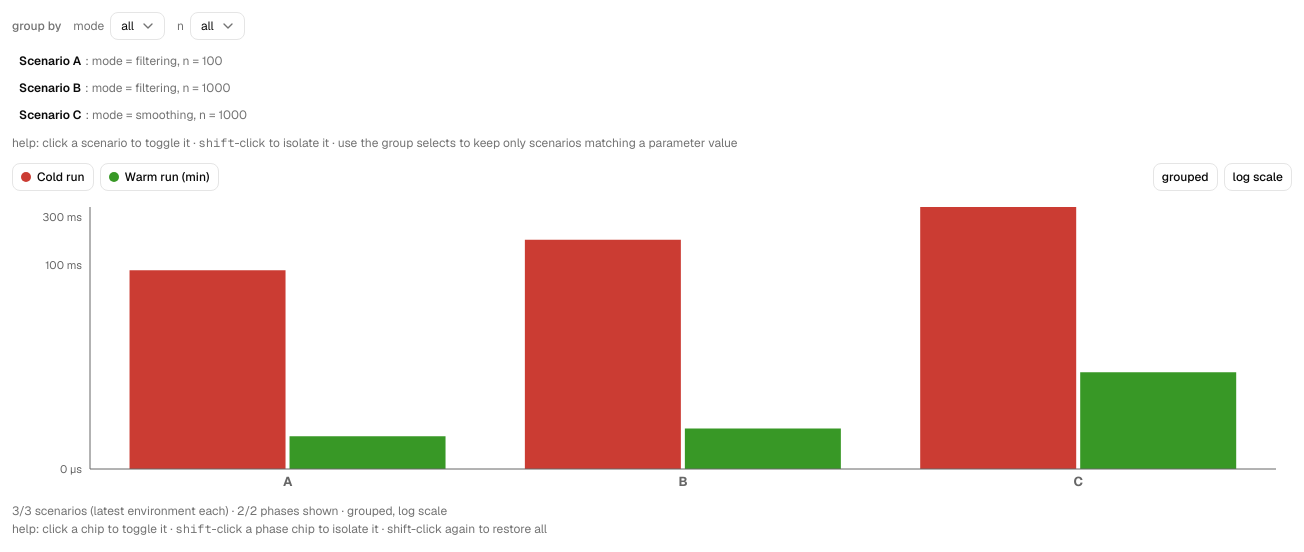
Test: ScenarioCompareChart › toggles individual scenarios from the legend
Click the button "Scenario A : mode = filtering, n = 100" at (121, 61), box [12, 49, 230, 73]
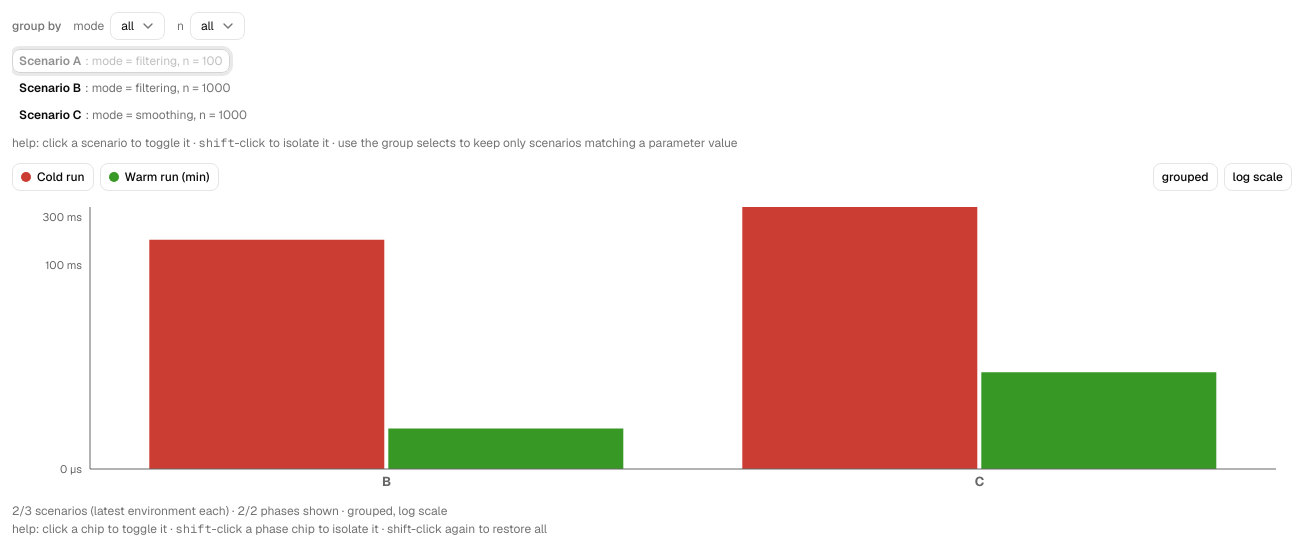
Now the text "2/3 scenarios" is shown, box [12, 503, 229, 519]
Click the button "Scenario A : mode = filtering, n = 100" at (121, 61), box [12, 49, 230, 73]
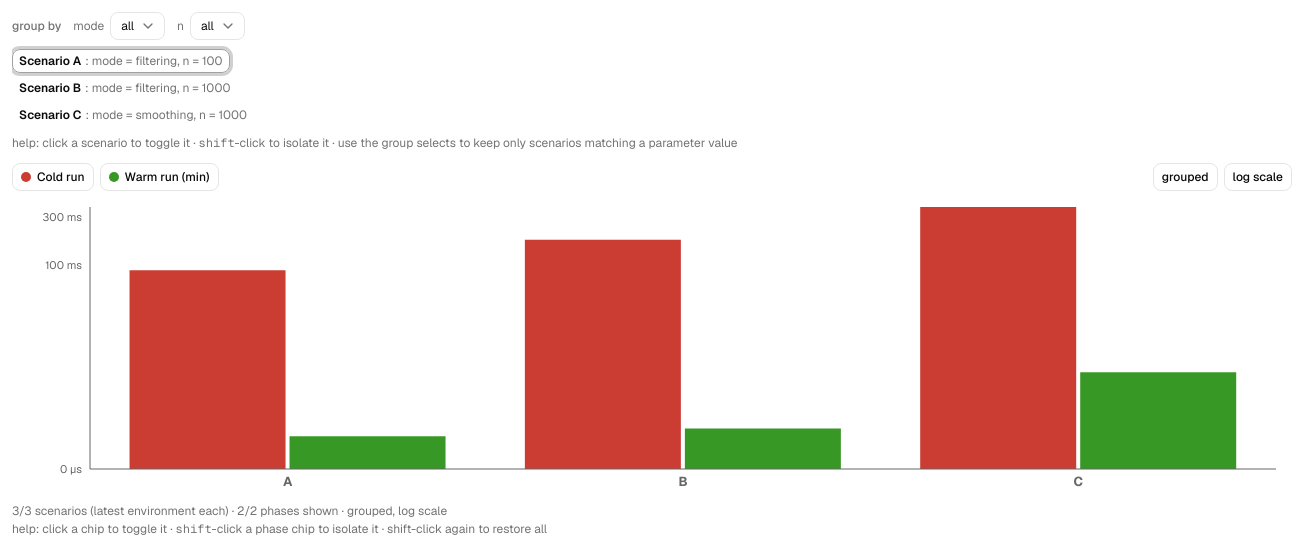
Now the text "3/3 scenarios" is shown, box [12, 503, 229, 519]
